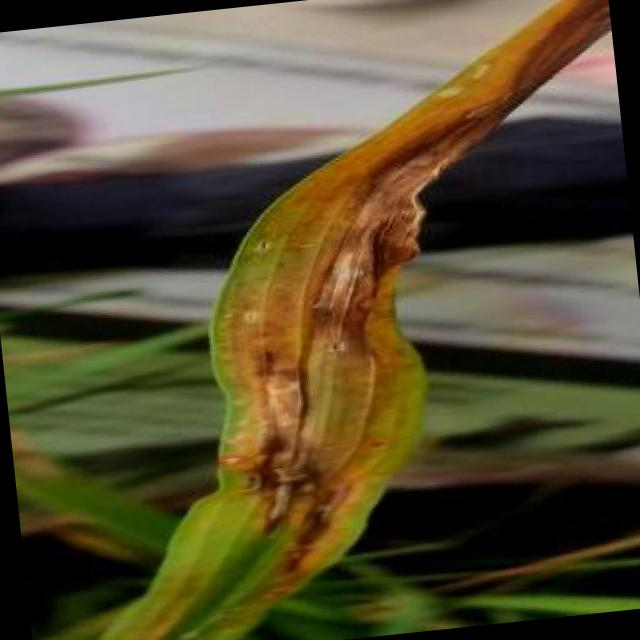Rice_Blast: (296, 139, 484, 344), (242, 448, 376, 561), (195, 413, 324, 523)
